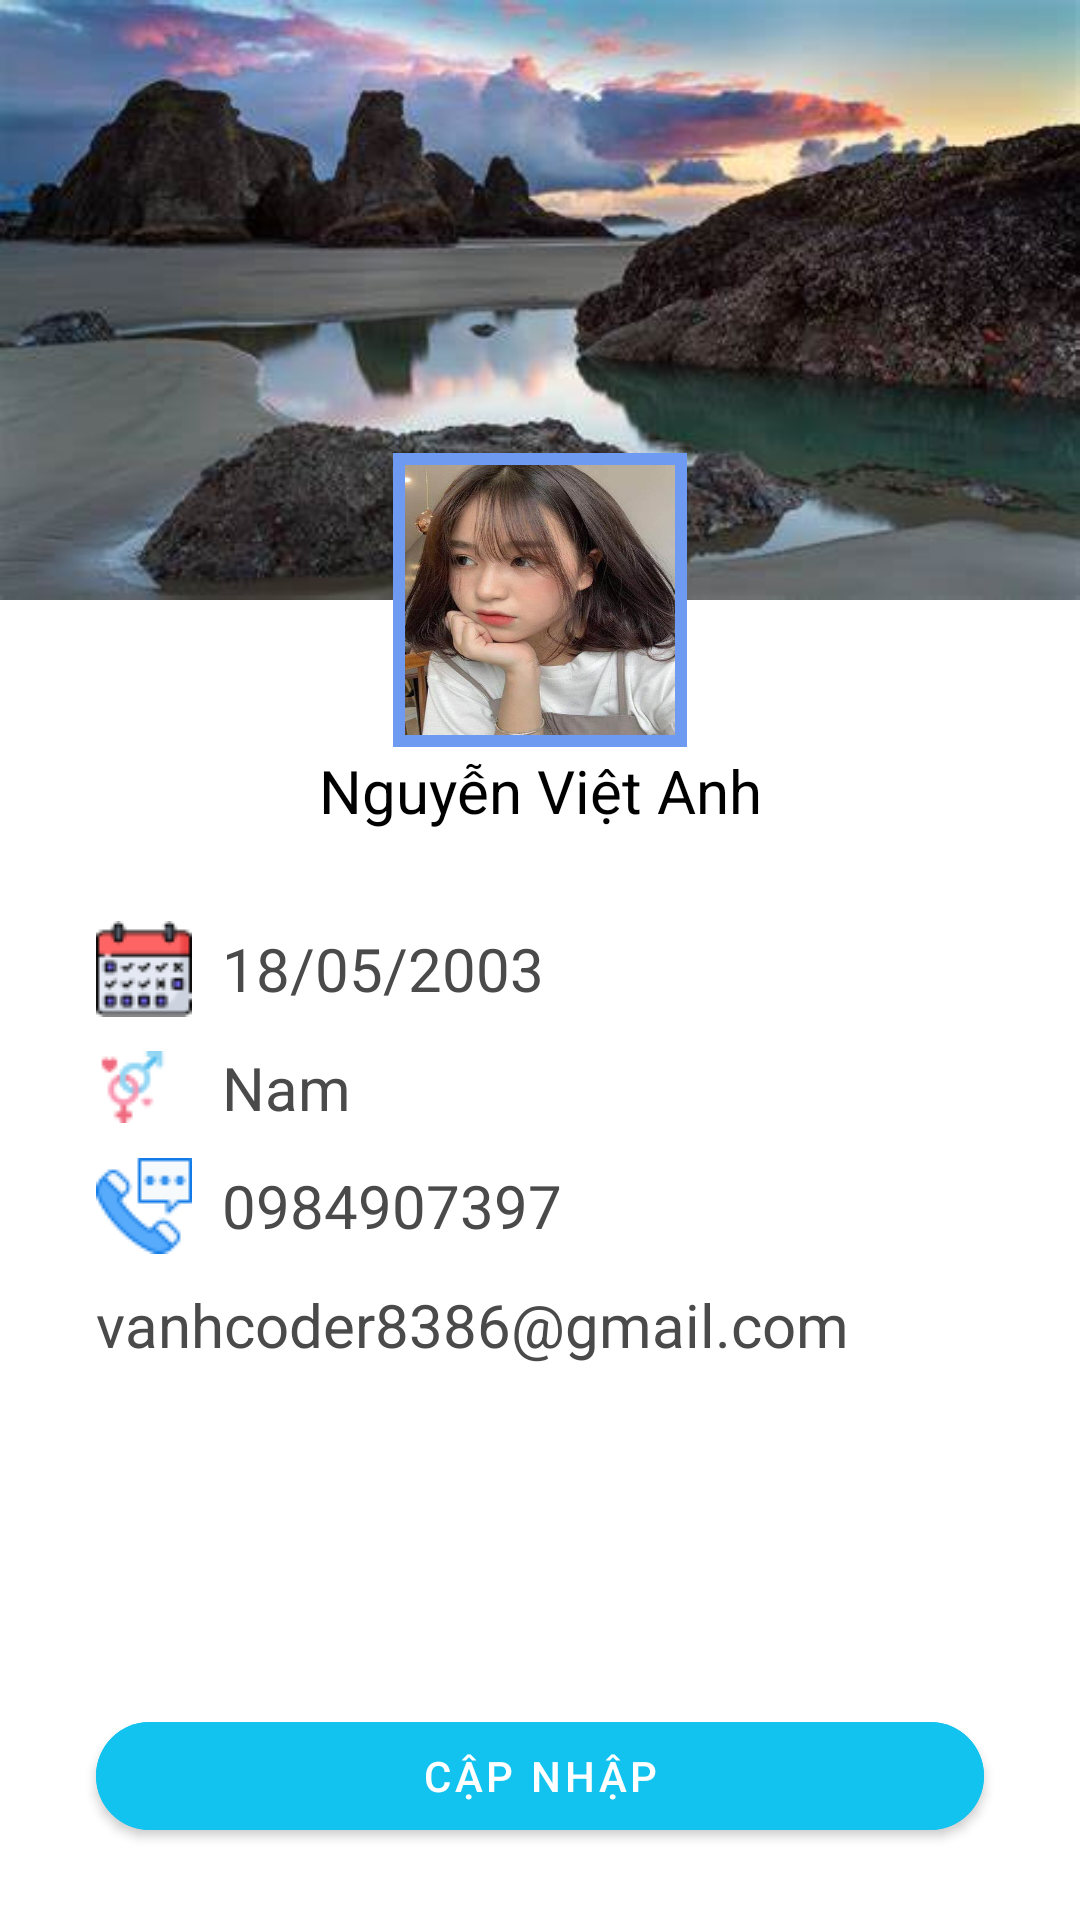

Icon click points for this 1080 × 1920 phone screenshot, format [x,y]:
avt: [540,600]
